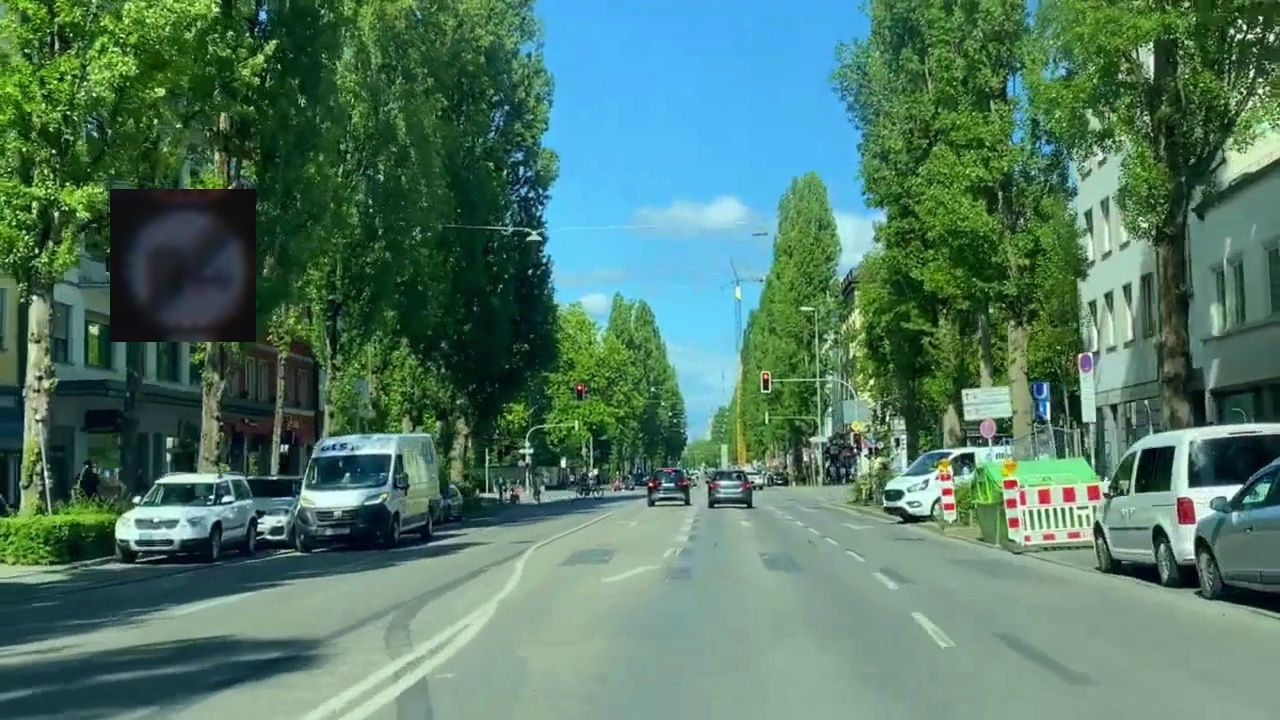End no pass >3.5t: (110, 189, 256, 342)
